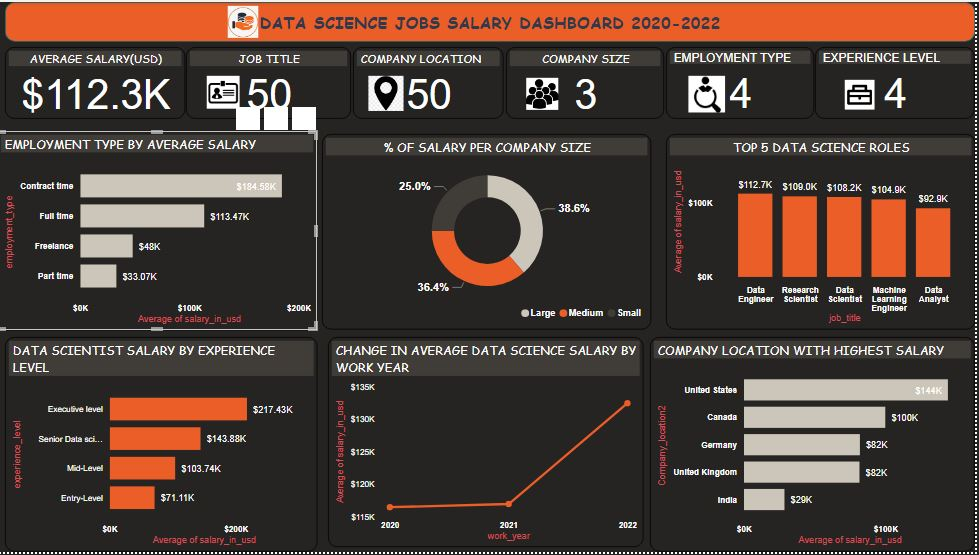

The dashboard page shown, as its layout file describes it:
{"tool":"powerbi","page":{"name":"Overview","canvas":[1280,720],"ordinal":0},"visuals":[{"type":"card","title":"AVERAGE SALARY(USD)","fields":{"Values":["Avg(ds_salaries.salary_in_usd)"]},"box":[10.1,59,236.2,93.6],"z":0},{"type":"shape","box":[10.5,0,1269.8,52.4],"z":1000},{"type":"card","title":"JOB TITLE","fields":{"Values":["Count(ds_salaries.job_title)"]},"box":[247.7,59,216,93.6],"z":2000},{"type":"card","title":"COMPANY LOCATION","fields":{"Values":["Count(ds_salaries.company_location)"]},"box":[466.6,59,197.3,93.6],"z":3000},{"type":"card","title":"COMPANY SIZE","fields":{"Values":["Count(ds_salaries.company_size)"]},"box":[666.7,59,207.4,93.6],"z":4000},{"type":"card","title":"EMPLOYMENT TYPE","fields":{"Values":["Count(ds_salaries.employment_type)"]},"box":[875.5,59,194.4,93.6],"z":5000},{"type":"card","title":"EXPERIENCE LEVEL","fields":{"Values":["Count(ds_salaries.experience_level)"]},"box":[1071.4,59,208.8,93.6],"z":6000},{"type":"barChart","title":"EMPLOYMENT TYPE BY AVERAGE SALARY","fields":{"Category":["ds_salaries.employment_type"],"Y":["Avg(ds_salaries.salary_in_usd)"]},"box":[0,168.5,419,260.6],"z":7000},{"type":"columnChart","title":"TOP 5 DATA SCIENCE ROLES","fields":{"Category":["ds_salaries.job_title"],"Y":["Avg(ds_salaries.salary_in_usd)"]},"box":[875.5,172.8,404.6,256.3],"z":8000},{"type":"barChart","title":"COMPANY LOCATION WITH HIGHEST SALARY","fields":{"Category":["ds_salaries.Company_location2"],"Y":["Avg(ds_salaries.salary_in_usd)"]},"box":[855.4,439.2,424.8,280.8],"z":9000},{"type":"donutChart","title":"% OF SALARY PER COMPANY SIZE ","fields":{"Category":["ds_salaries.company_size"],"Y":["Avg(ds_salaries.salary_in_usd)"]},"box":[424.8,172.8,430.6,256.3],"z":10000},{"type":"barChart","title":"DATA SCIENTIST SALARY BY EXPERIENCE LEVEL","fields":{"Category":["ds_salaries.experience_level"],"Y":["Avg(ds_salaries.salary_in_usd)"]},"box":[10.1,439.2,409,280.8],"z":11000},{"type":"image","box":[266.4,0,109.4,51.8],"z":12000},{"type":"image","box":[256.3,92.2,79.2,53.3],"z":13000},{"type":"image","box":[457.9,92.2,102.2,56.2],"z":14000},{"type":"image","box":[676.8,93.6,73.4,51.8],"z":15000},{"type":"image","box":[1091.5,96.5,74.9,49],"z":16000},{"type":"image","box":[894.2,92.2,69.1,57.6],"z":17000},{"type":"lineChart","title":"CHANGE IN AVERAGE DATA SCIENCE SALARY BY WORK YEAR","fields":{"Category":["ds_salaries.work_year"],"Y":["Avg(ds_salaries.salary_in_usd)"]},"box":[433.4,439.2,413.3,275],"z":18001}]}

Visuals, with their boxes in screenshot pixels (x1, y1, x2, y2), scaled from the page's 1280x720 canvas onto the 979x555 screenshot:
"AVERAGE SALARY(USD)" card: [8, 45, 188, 118]
shape: [8, 0, 978, 40]
"JOB TITLE" card: [189, 45, 355, 118]
"COMPANY LOCATION" card: [357, 45, 508, 118]
"COMPANY SIZE" card: [510, 45, 669, 118]
"EMPLOYMENT TYPE" card: [670, 45, 818, 118]
"EXPERIENCE LEVEL" card: [819, 45, 978, 118]
"EMPLOYMENT TYPE BY AVERAGE SALARY" barChart: [0, 130, 320, 331]
"TOP 5 DATA SCIENCE ROLES" columnChart: [670, 133, 978, 331]
"COMPANY LOCATION WITH HIGHEST SALARY" barChart: [654, 339, 978, 554]
"% OF SALARY PER COMPANY SIZE " donutChart: [325, 133, 654, 331]
"DATA SCIENTIST SALARY BY EXPERIENCE LEVEL" barChart: [8, 339, 321, 554]
image: [204, 0, 287, 40]
image: [196, 71, 257, 112]
image: [350, 71, 428, 114]
image: [518, 72, 574, 112]
image: [835, 74, 892, 112]
image: [684, 71, 737, 115]
"CHANGE IN AVERAGE DATA SCIENCE SALARY BY WORK YEAR" lineChart: [331, 339, 648, 551]
